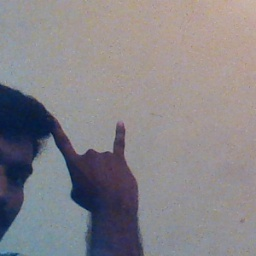V: (47, 105, 145, 213)
